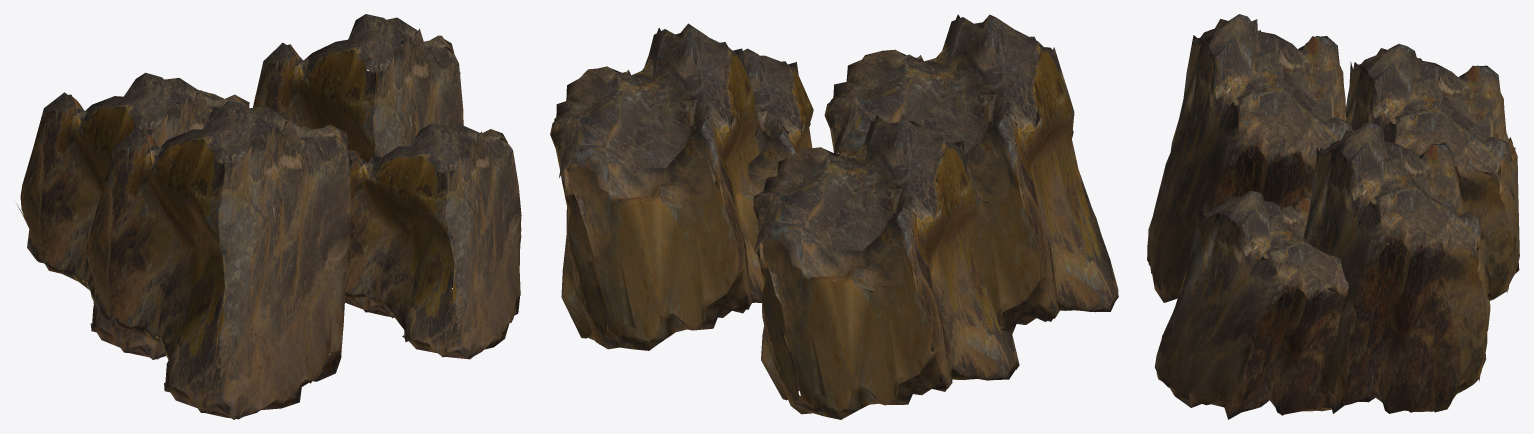
File: cliff-1-lod.obj
The picture shows the model from 3 angles, left to right: view 1: azimuth 30°, elevation 25°; view 2: azimuth 150°, elevation 25°; view 3: azimuth 270°, elevation 25°; orthographic projection. The views are drawn at different scales.
Parts seen in each view (by area): view 1: cliff-1.001; view 2: cliff-1.001; view 3: cliff-1.001.
Boxes of the visible parts, box(x1,y1,x2,y2) form: cliff-1.001: box(16, 14, 521, 419); cliff-1.001: box(550, 14, 1118, 419); cliff-1.001: box(1147, 14, 1519, 419).
Bounding box in the file's own units: 7.35 × 4.93 × 6.07.
Materials: 1 (1 with a texture image).
